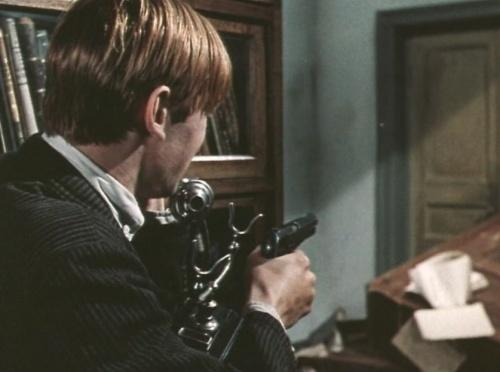Gun: (257, 214, 317, 261)
